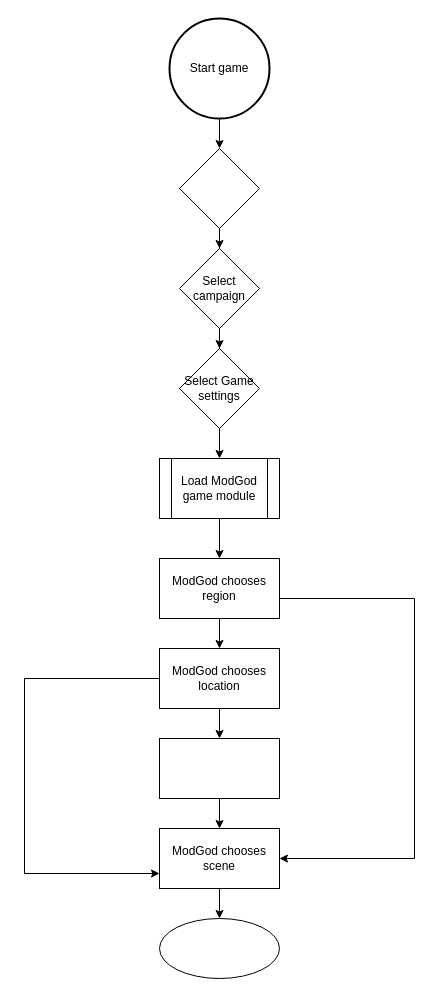
Some shapes in this 440 by 996 pixel diagram are drawn without their labels. The centre of each missing label's shape, as x and y in pixels:
"Game set up completed" goes at pixel 219 948.
"ModGod chooses space" goes at pixel 219 768.
"Select genre" goes at pixel 219 188.
